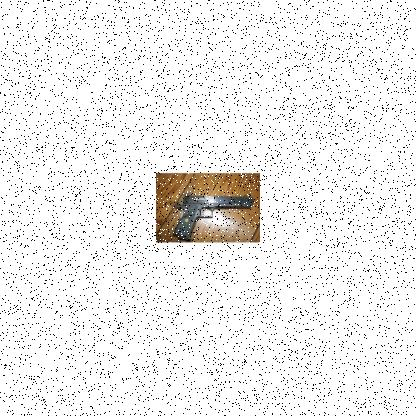gun: (168, 192, 254, 240)
